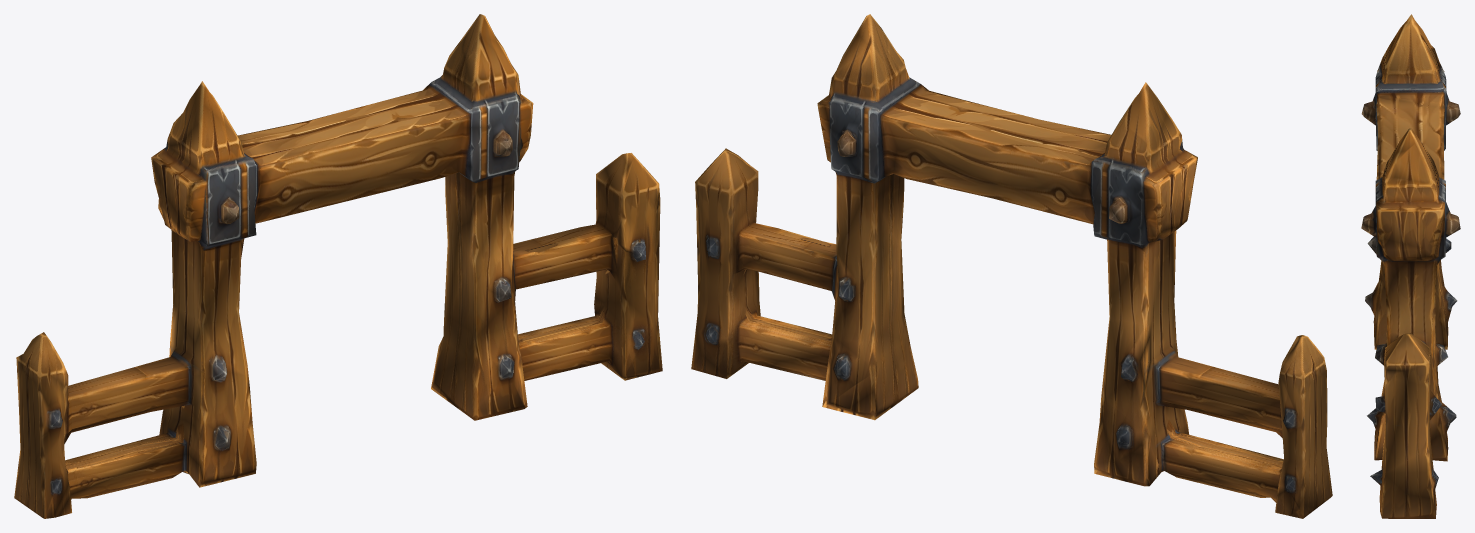
Rendered from cerca_porton.glb.
The picture shows the model from 3 angles, left to right: view 1: azimuth 30°, elevation 25°; view 2: azimuth 150°, elevation 25°; view 3: azimuth 270°, elevation 25°; orthographic projection. The views are drawn at different scales.
Visible parts, largest first — view 1: cerca_porton; view 2: cerca_porton; view 3: cerca_porton.
Part boxes in pixels (box(x1,y1,x2,y2)): cerca_porton: box(14, 14, 662, 518); cerca_porton: box(691, 14, 1332, 518); cerca_porton: box(1361, 14, 1460, 518).
Size of the model in its own units: 3 by 1.8 by 0.5.
1 material, 1 textured.
